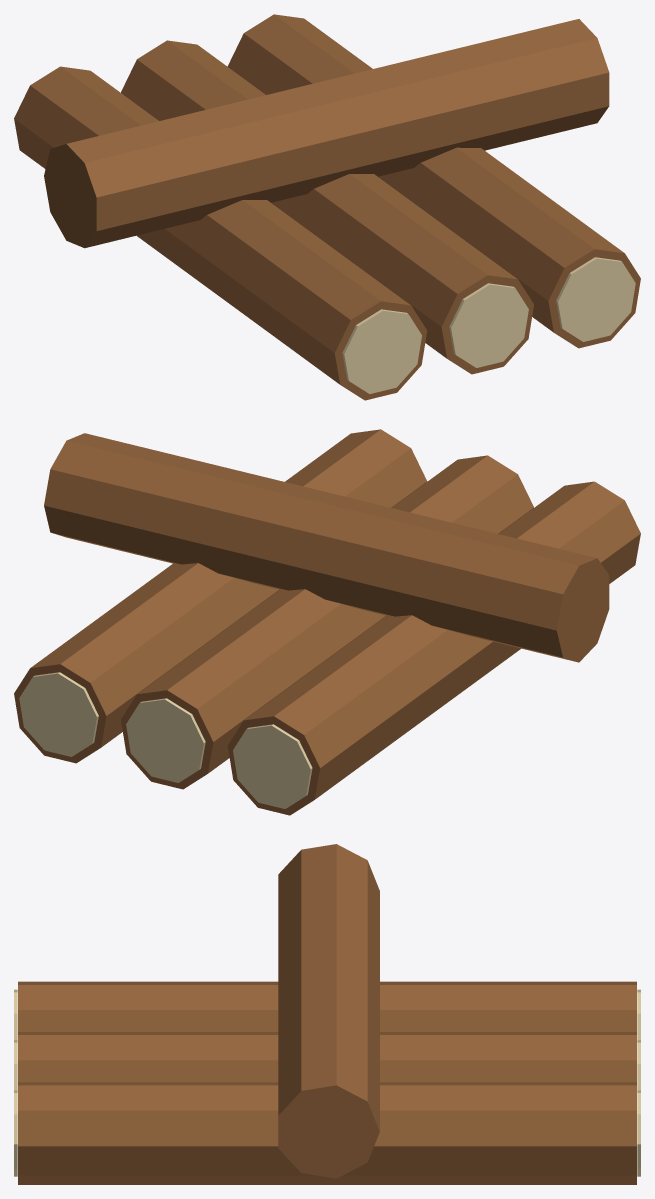
The model's file is firewood.glb.
The picture shows the model from 3 angles, top to bottom: view 1: azimuth 30°, elevation 25°; view 2: azimuth 150°, elevation 25°; view 3: azimuth 270°, elevation 25°; orthographic projection. The views are drawn at different scales.
Visible parts, largest first — view 1: firewood; view 2: firewood; view 3: firewood.
Part boxes in pixels (bbox=[...]): firewood: bbox=[14, 14, 640, 400]; firewood: bbox=[14, 429, 640, 815]; firewood: bbox=[14, 844, 640, 1184].
Size of the model in its own units: 2.4 by 0.7534 by 2.63.
